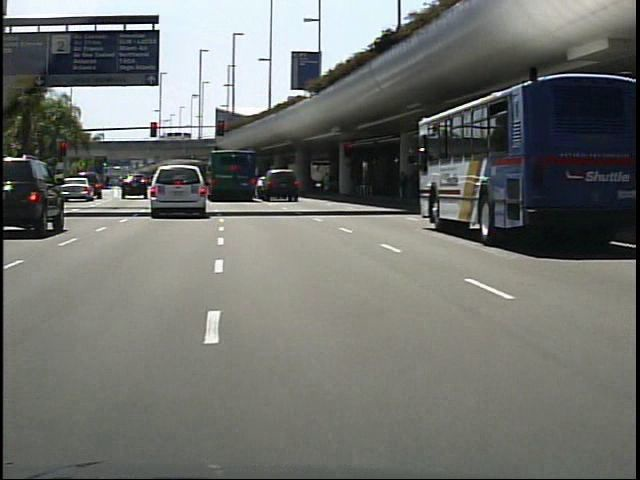person: (321, 164, 341, 201)
